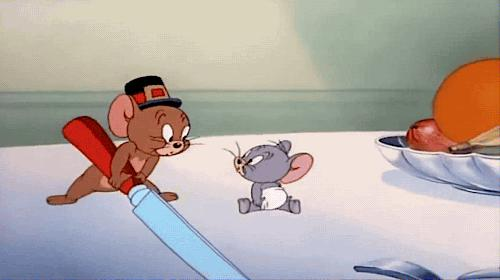jerry: (44, 73, 194, 209)
